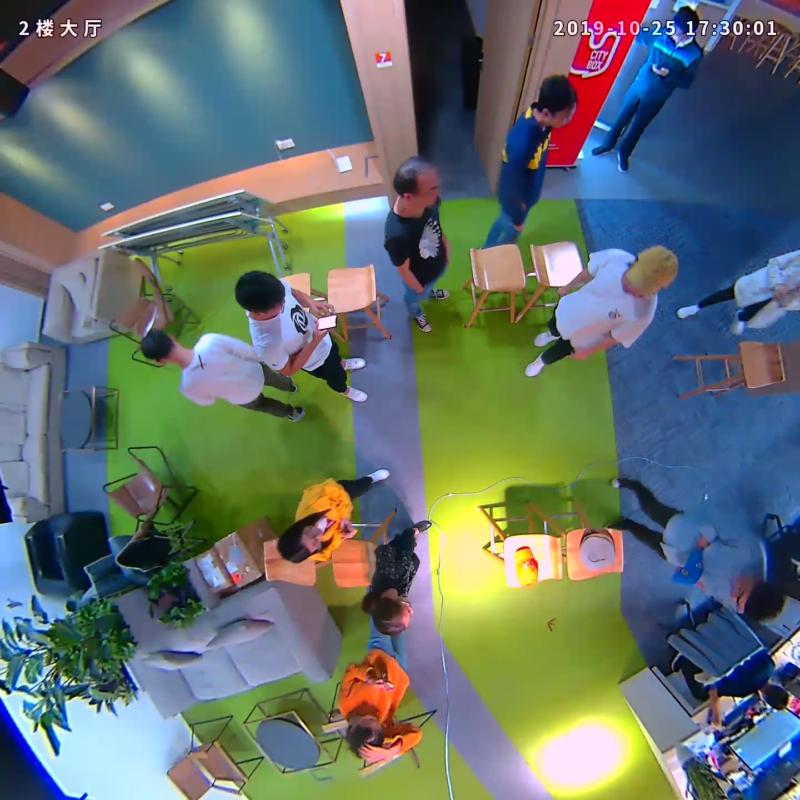head: (622, 244, 679, 299), (727, 574, 786, 622), (235, 268, 287, 318), (393, 156, 440, 208), (539, 75, 578, 129), (276, 522, 323, 564), (370, 596, 415, 637), (347, 712, 385, 759), (140, 328, 179, 365), (665, 4, 700, 45)
